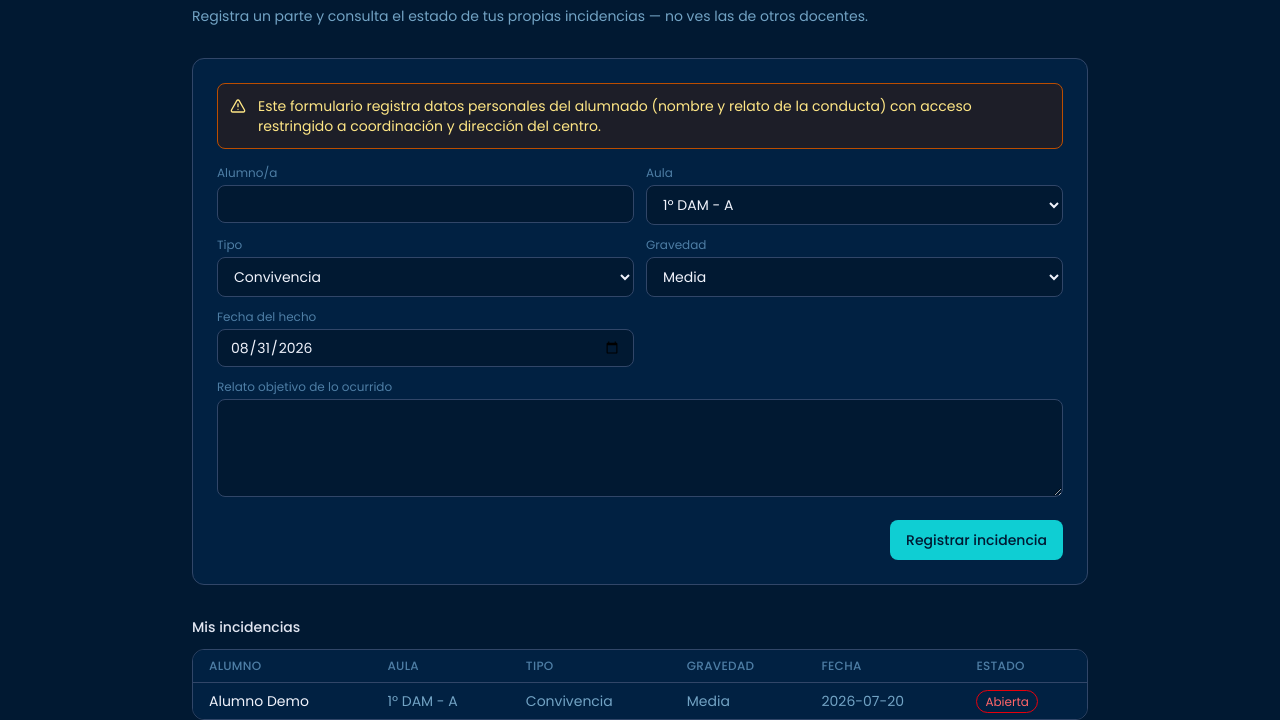
DocentePage › abre el detalle de solo lectura de una incidencia propia (sin botones de acción)
(page scrolled)
Click the row with test id "incidencia-row". click: [259, 701]
box: [193,682,1087,719]
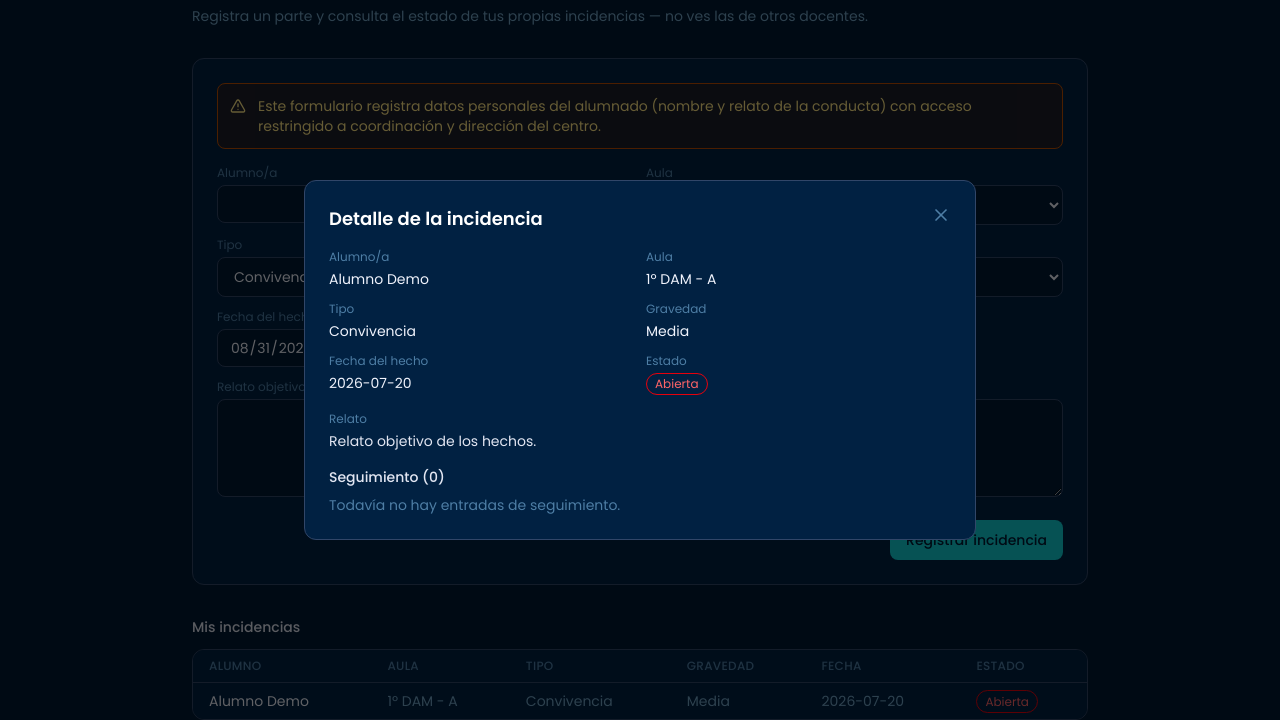
Now the text "Relato objetivo de los hechos." is shown, box [329,431,536,451]
